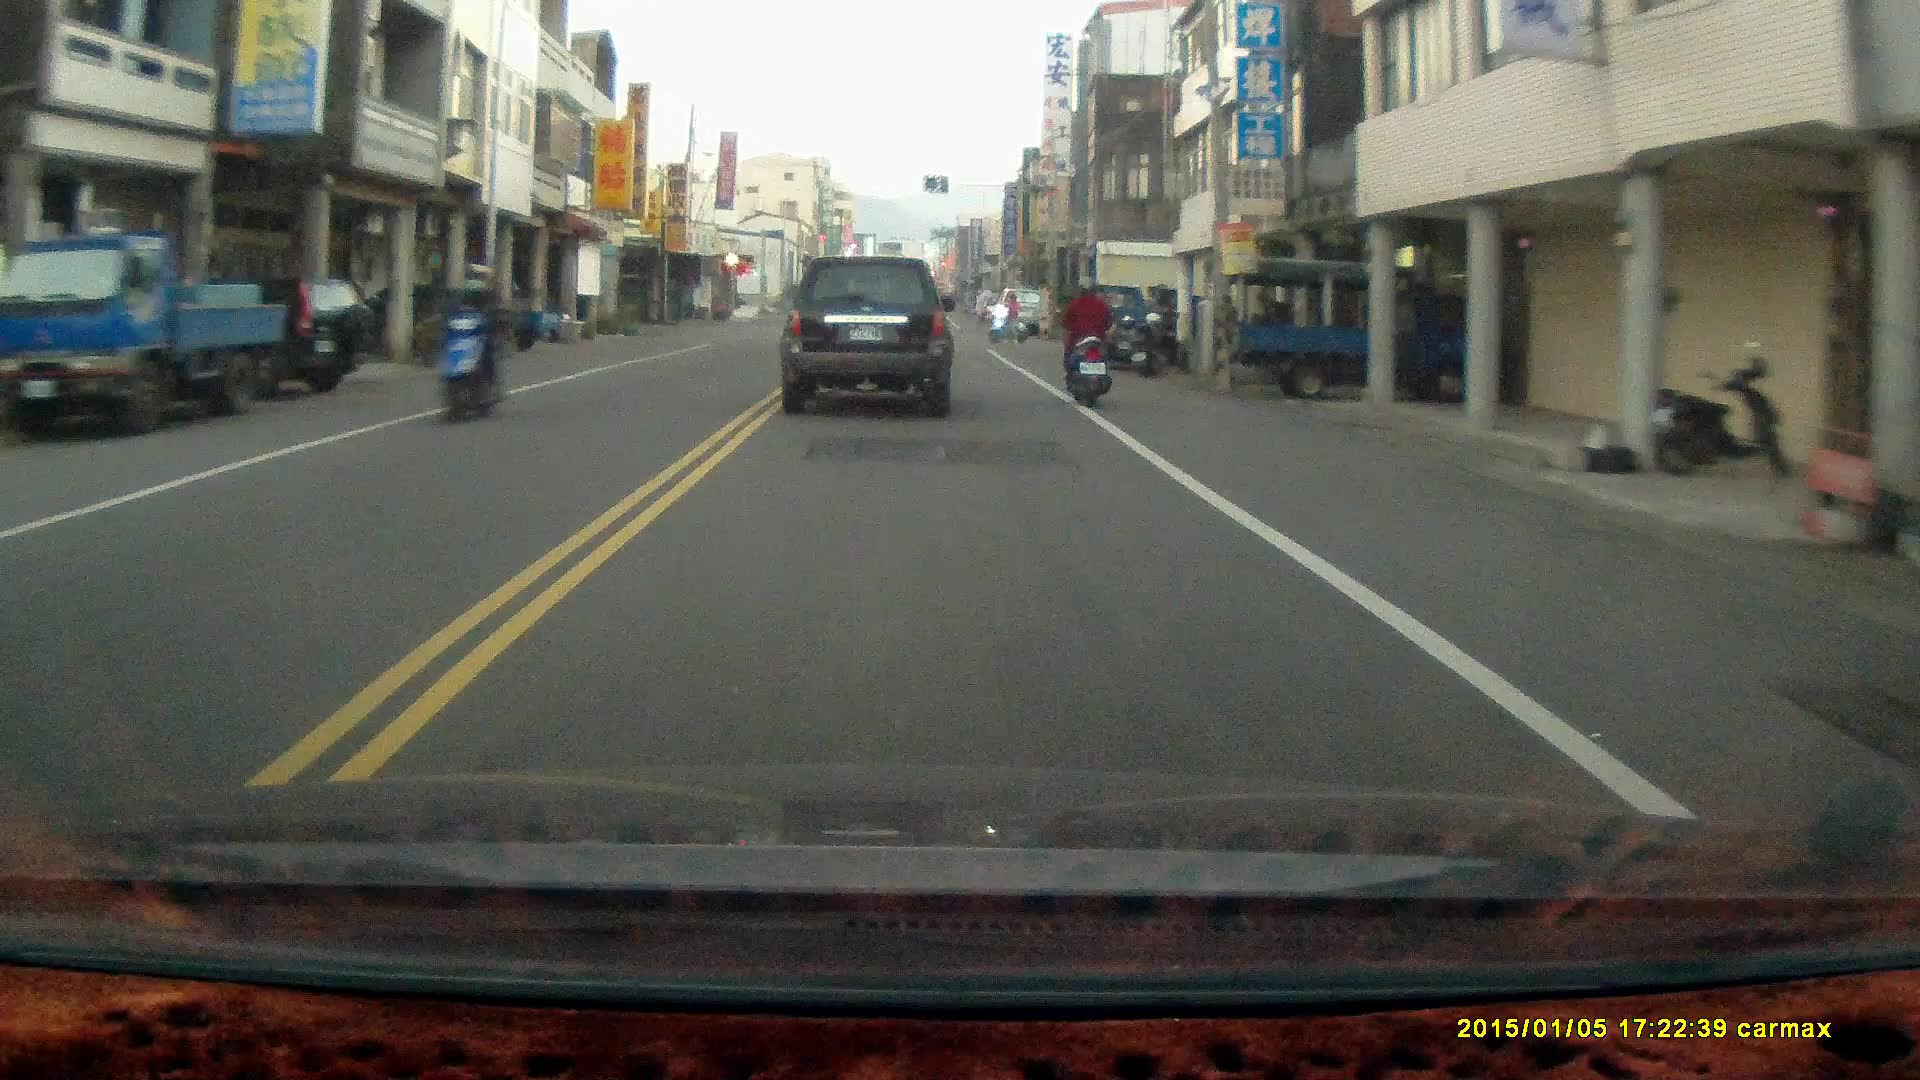rider: (431, 264, 511, 426), (1060, 272, 1113, 406), (986, 294, 1025, 344)
vehicle: (3, 234, 285, 439), (1229, 268, 1512, 413), (780, 256, 957, 423), (169, 272, 383, 402)
